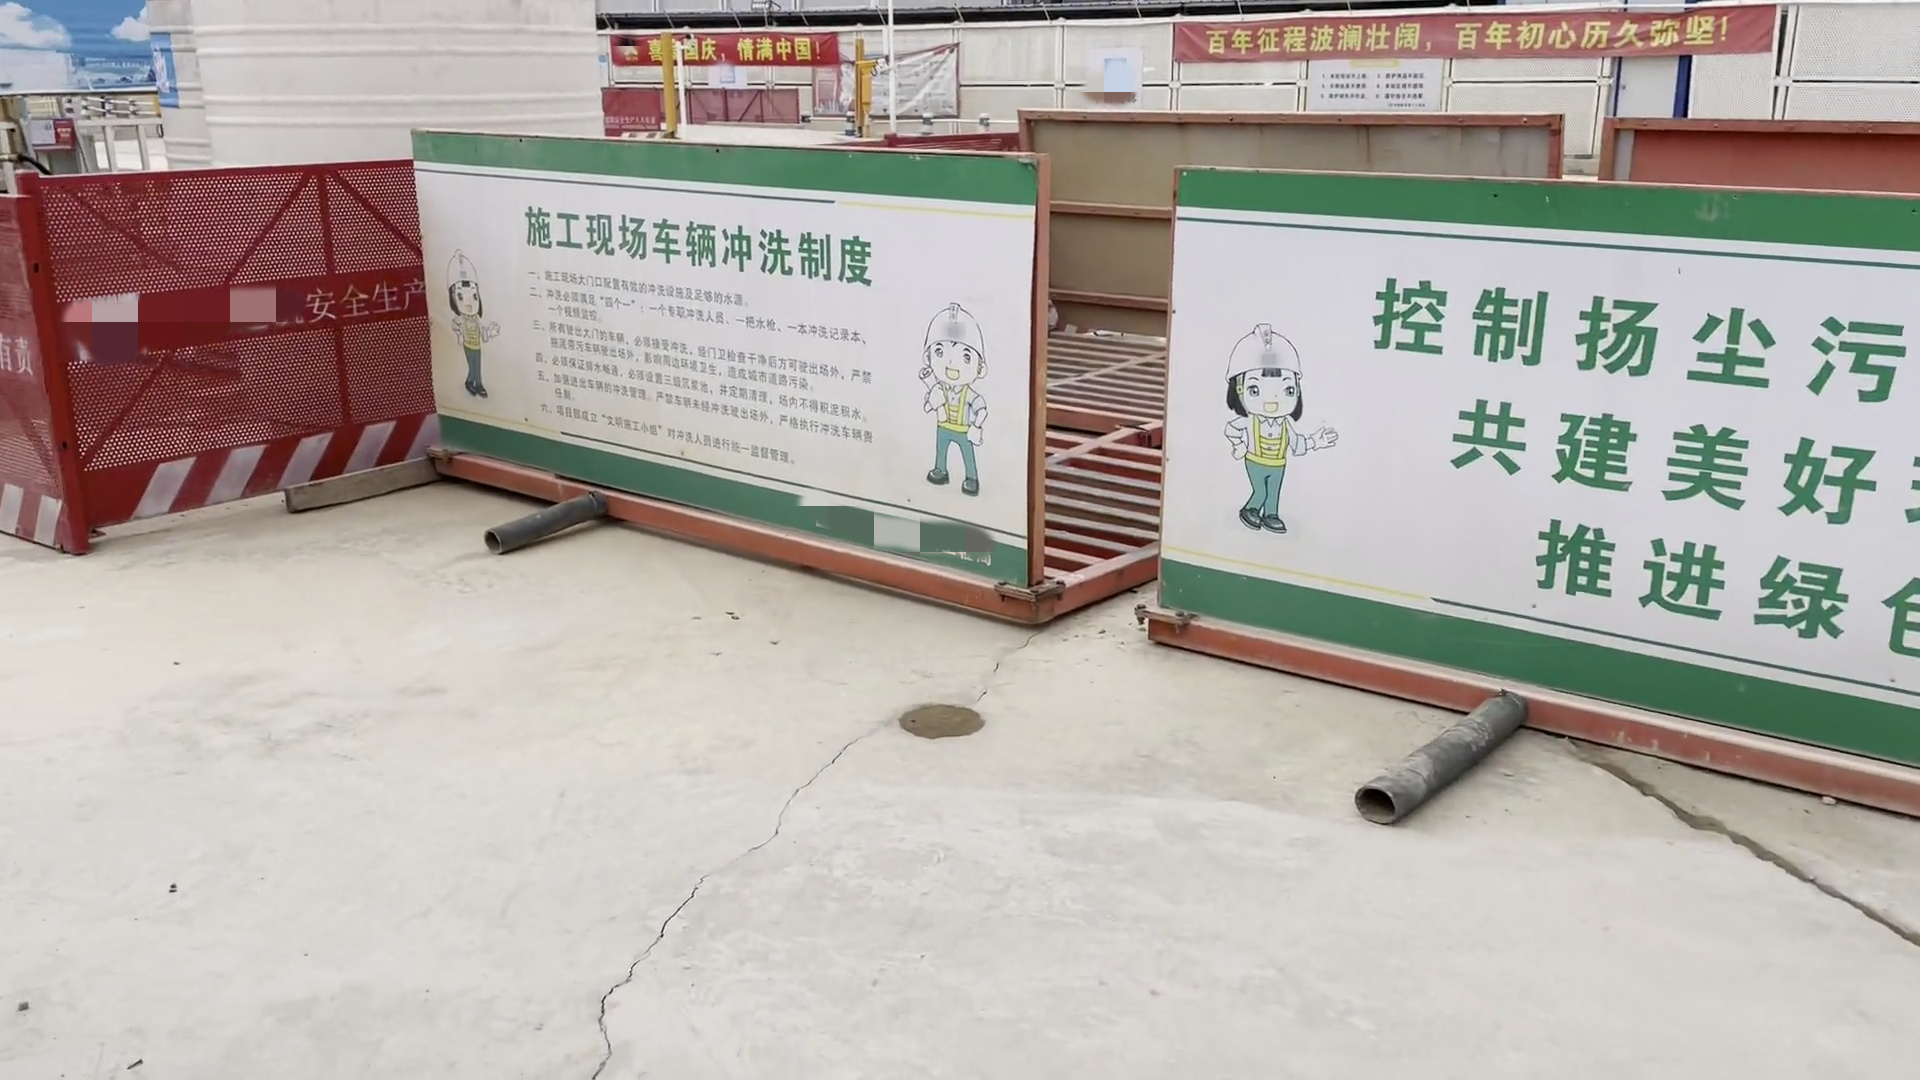slogan: (1228, 220, 1920, 703), (427, 179, 1014, 502), (1174, 18, 1763, 67), (622, 21, 847, 71)
